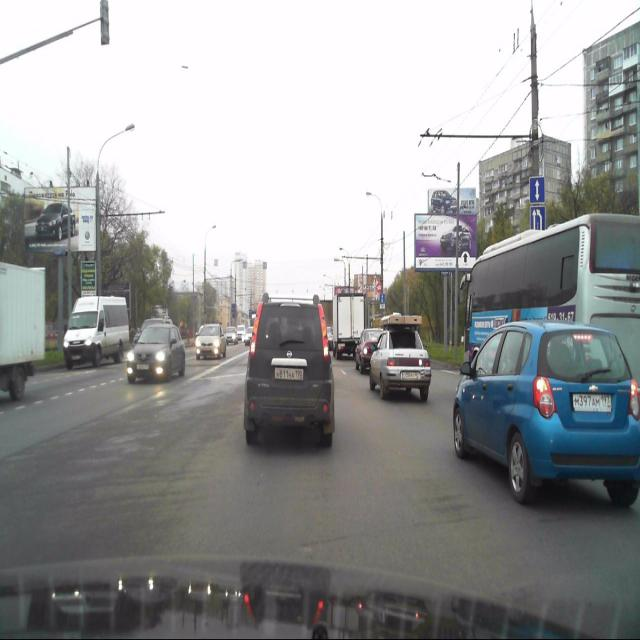road sign: (528, 176, 544, 204), (530, 207, 544, 235)
